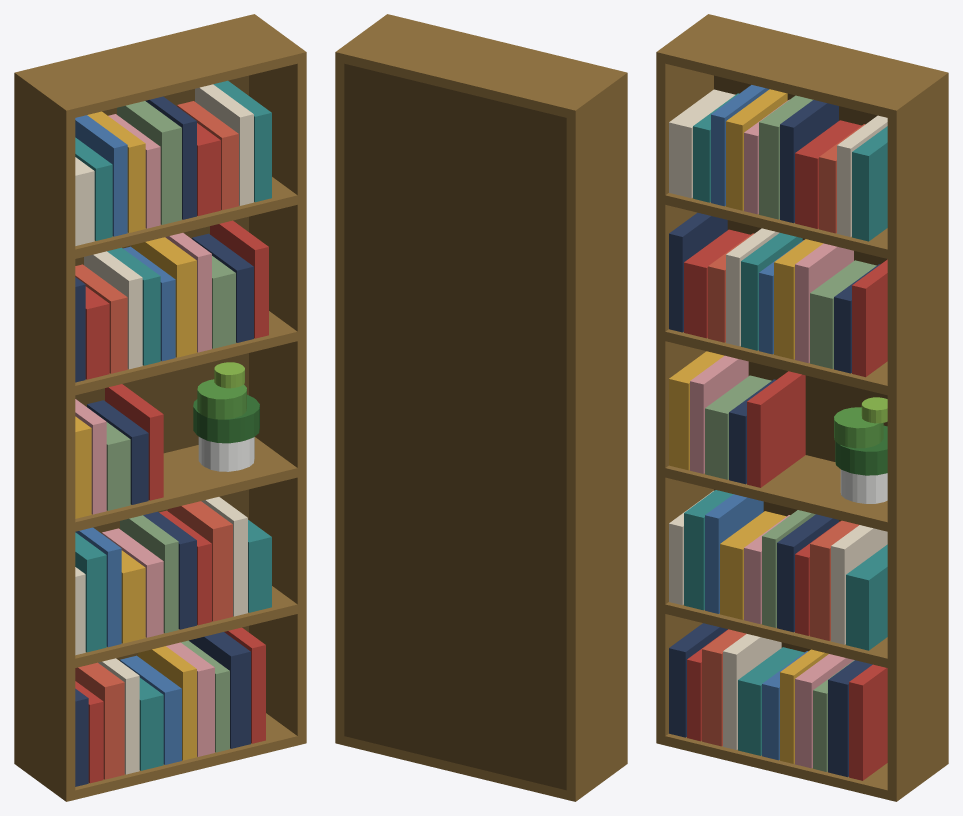
Rendered from bookshelf.glb.
3 views of the same model, side by side, from view 1: azimuth 30°, elevation 25°; view 2: azimuth 150°, elevation 25°; view 3: azimuth 330°, elevation 25° (orthographic).
Parts seen in each view (by area): view 1: bookshelf_Body; view 2: bookshelf_Body; view 3: bookshelf_Body.
Boxes of the visible parts, left/top/right/bottom form: bookshelf_Body: left=14, top=14, right=306, bottom=801; bookshelf_Body: left=335, top=14, right=627, bottom=801; bookshelf_Body: left=656, top=14, right=948, bottom=801.
Bounding box in the file's own units: 0.8 × 2.2 × 0.3.
